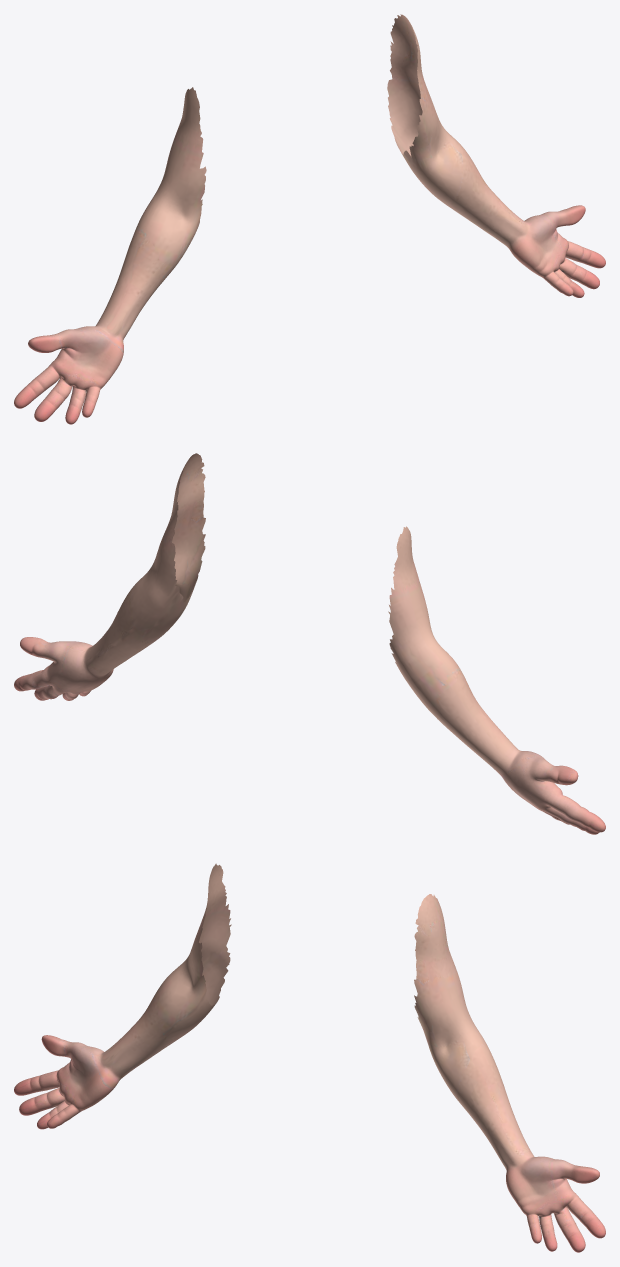
File: nell_hands.glb
3 renders of one model, top to bottom at view 1: azimuth 30°, elevation 25°; view 2: azimuth 150°, elevation 25°; view 3: azimuth 330°, elevation 25°, orthographic.
Visible parts, largest first — view 1: nell_open2; view 2: nell_open2; view 3: nell_open2.
Boxes of the visible parts, <box> form: nell_open2: <box>14,14,605,424</box>; nell_open2: <box>14,453,605,834</box>; nell_open2: <box>14,863,605,1252</box>.
Size of the model in its own units: 1.85 by 0.9025 by 0.2607.
1 material, 1 textured.
